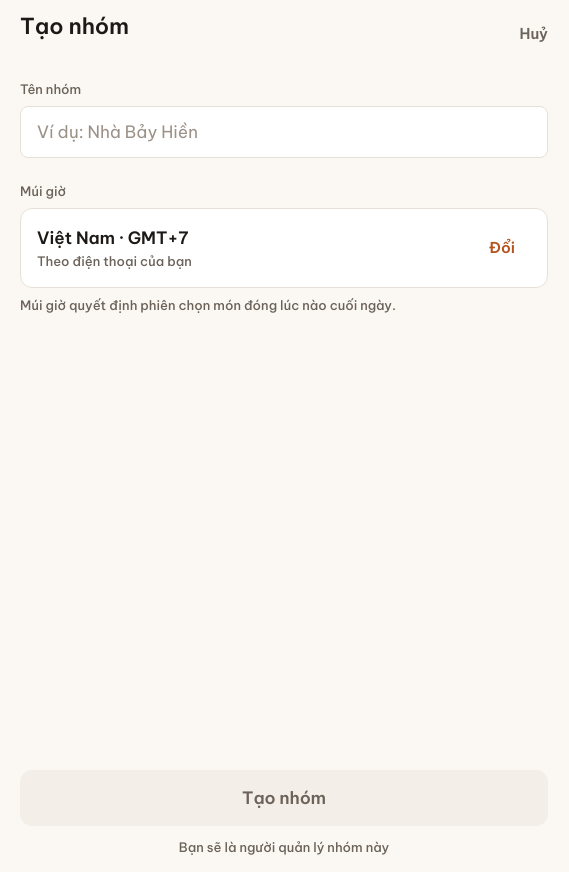
S-03 Tạo nhóm › action trả lỗi thì hiện dưới input và giữ nguyên tên đã gõ
Type "Nhà Bảy Hiền" into the field labelled "Tên nhóm" at (284, 132), box [20,106,548,158]
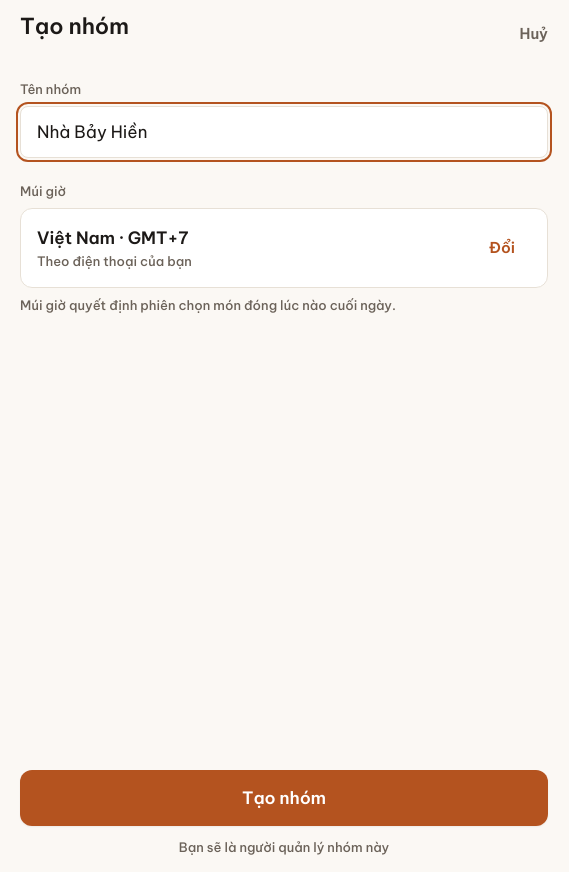
Click the button "Tạo nhóm" at (284, 798), box [20,770,548,826]
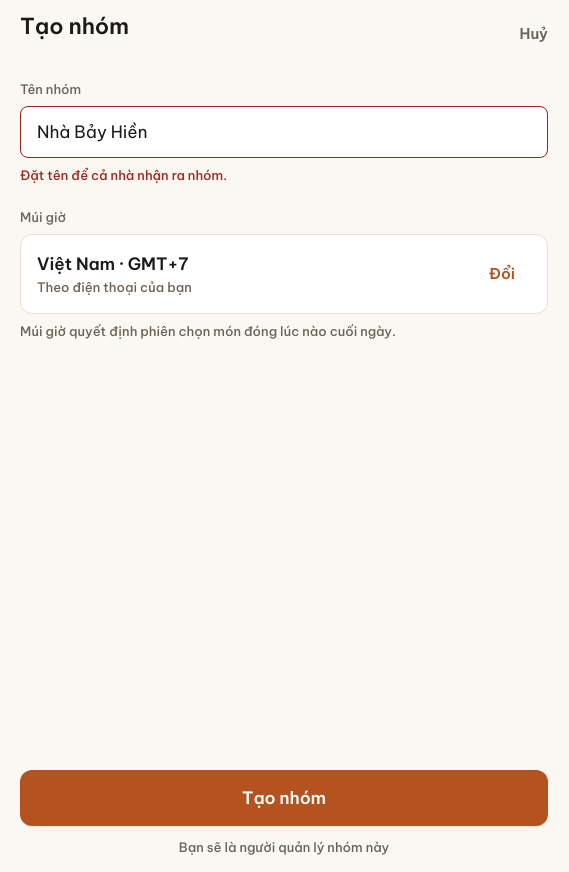
Now the text "Đặt tên để cả nhà nhận ra nhóm." is shown, box [20,167,227,183]
